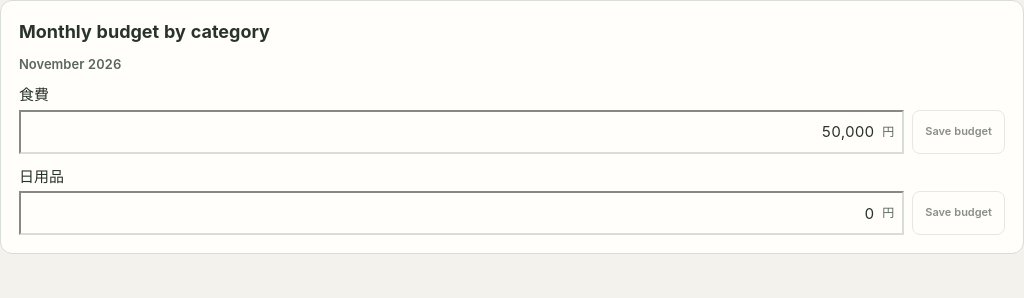
Test case: BudgetEditor › shows an alert and keeps the typed amount when saving fails
Replace the text in the field labelled "日用品" with "20000": [462, 213] box [19, 191, 904, 235]
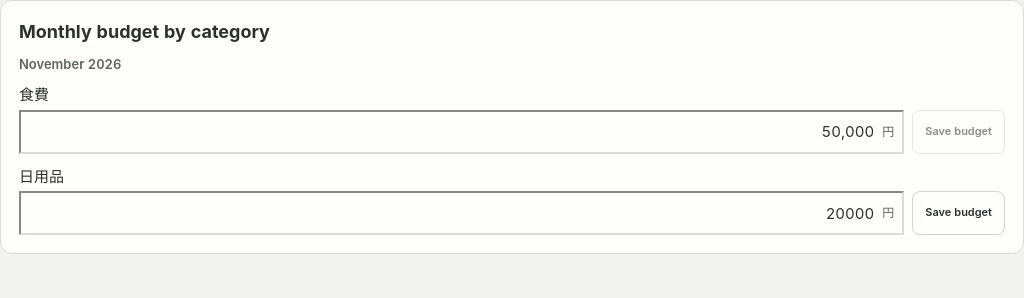
Click the 2nd button "Save budget": [959, 213] box [912, 191, 1005, 235]
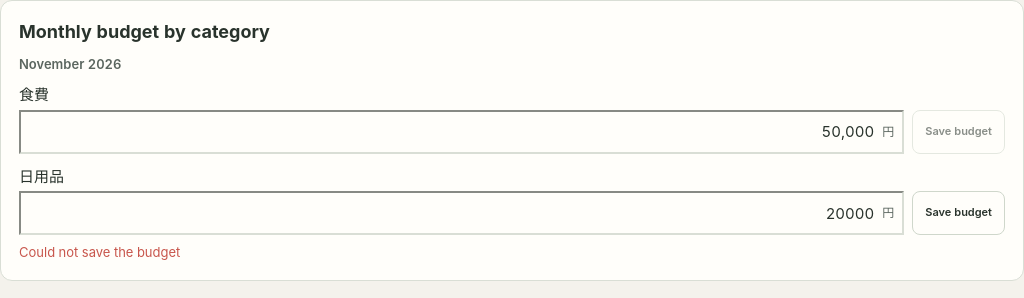
Result: the 2nd button "Save budget" is enabled at [912, 191, 1005, 235]
Result: the message reads "Could not save the budget" at [19, 244, 180, 260]
